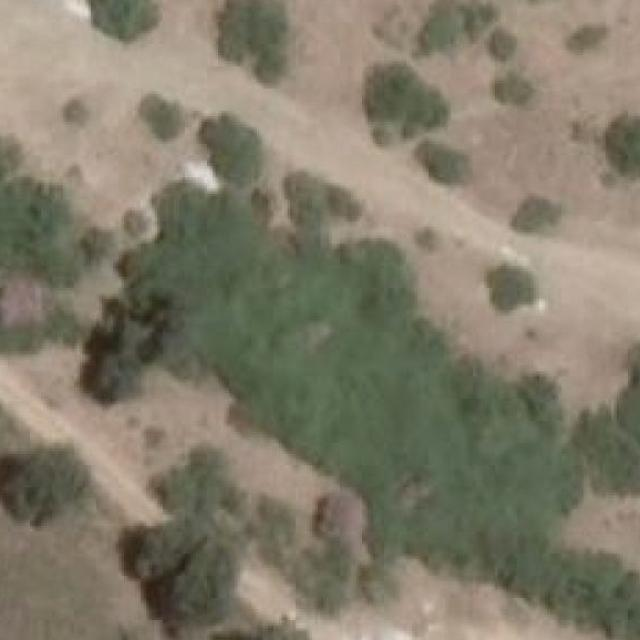Tree: (130, 518, 234, 640), (204, 0, 301, 81), (563, 400, 640, 498), (0, 446, 83, 527), (360, 61, 443, 125), (198, 116, 262, 186), (79, 0, 151, 44), (356, 559, 415, 609), (600, 110, 640, 180), (514, 359, 561, 416), (83, 352, 138, 400), (213, 620, 340, 640), (619, 330, 640, 446), (566, 20, 617, 63), (138, 92, 183, 139), (512, 194, 559, 236), (417, 138, 462, 180), (421, 5, 457, 56), (495, 260, 534, 305), (486, 74, 528, 105), (80, 227, 110, 260), (63, 98, 91, 125), (122, 208, 147, 236), (492, 28, 512, 58)
